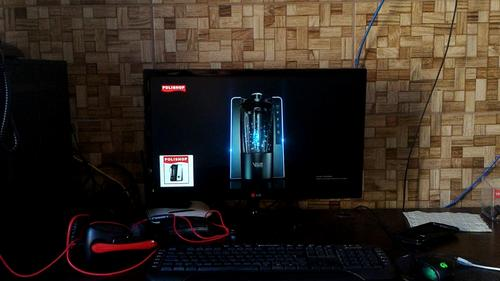Polishop #1: (160, 155, 194, 187)
